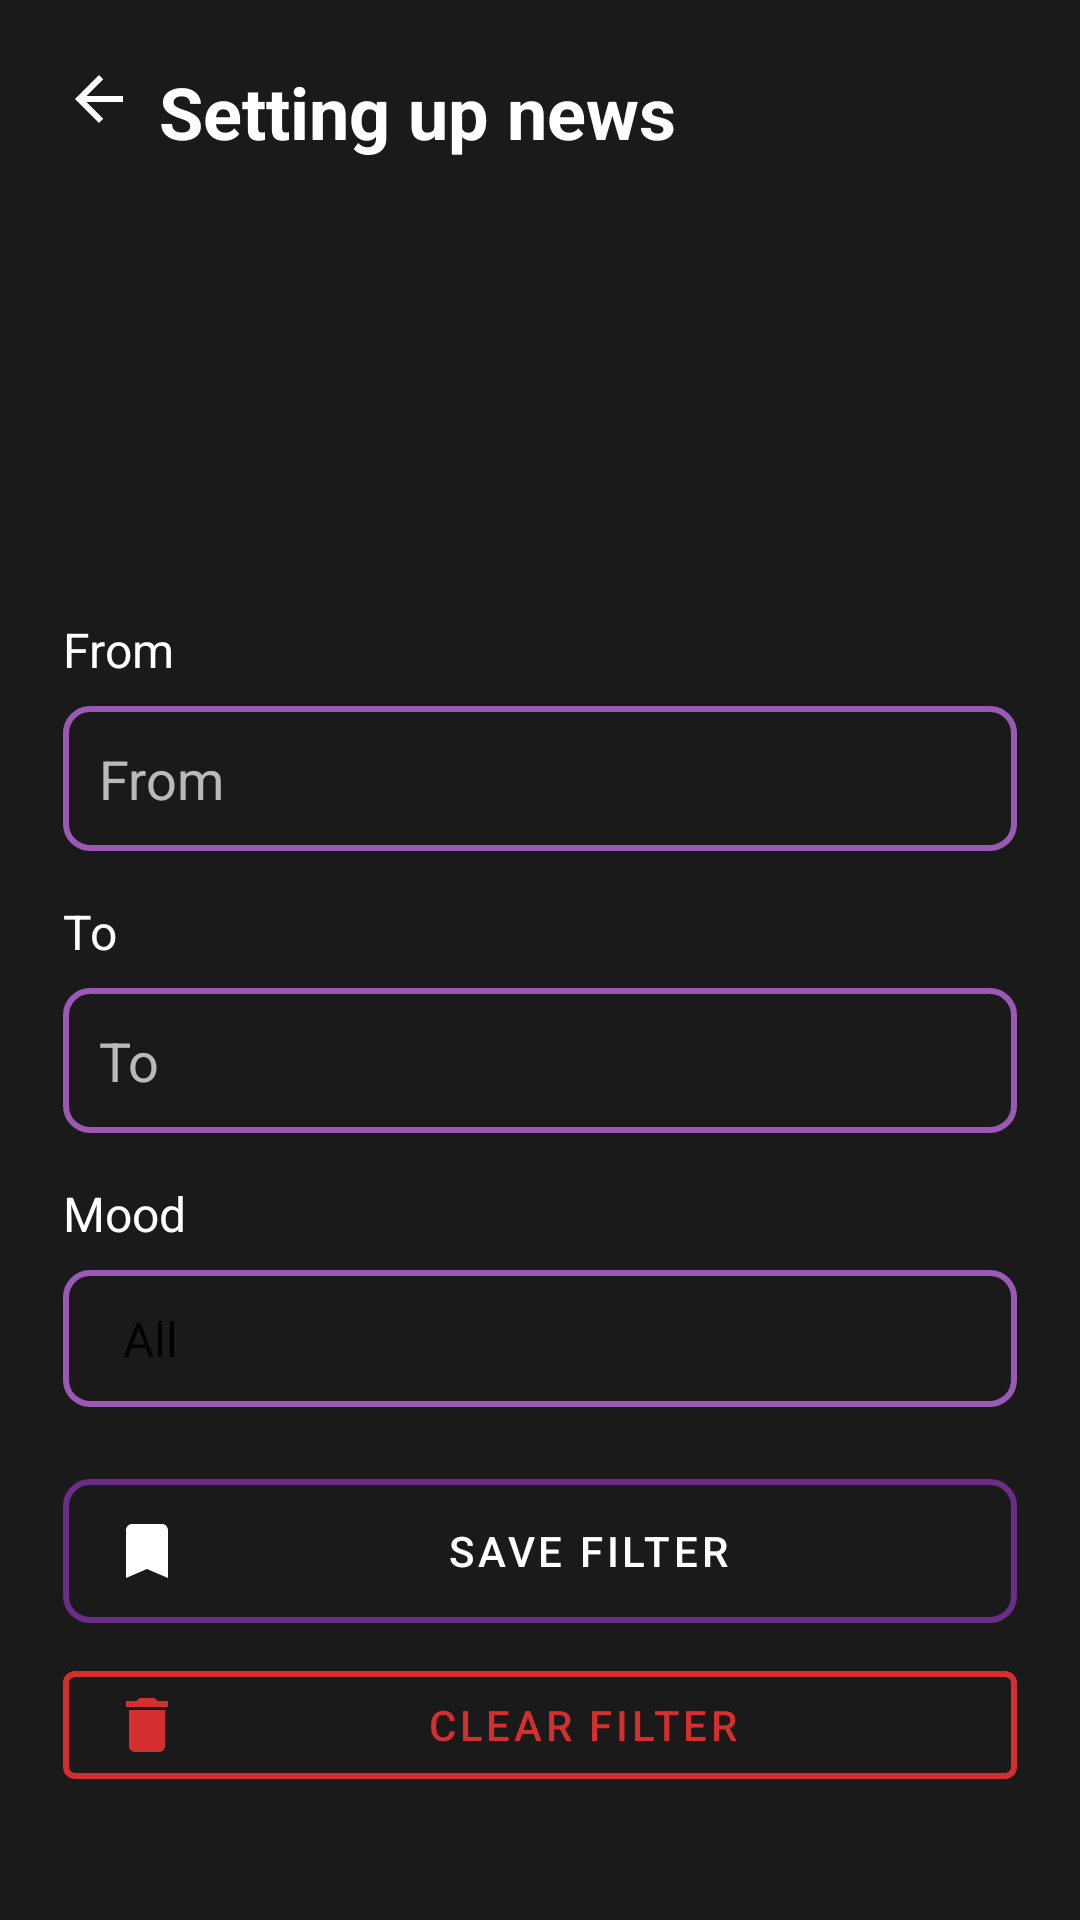

Screen size 1080px×1920px. Icon name, then its box in pixels as (x1, y1, x2, y2):
Back: (75, 75, 123, 123)
